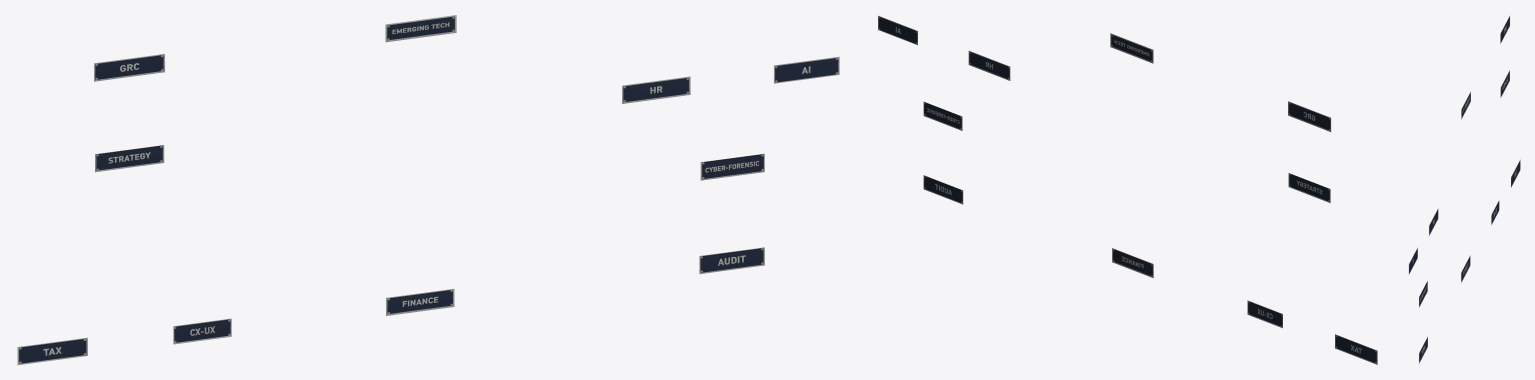
File: Lib_Text_01.glb
The picture shows the model from 3 angles, left to right: view 1: azimuth 30°, elevation 25°; view 2: azimuth 150°, elevation 25°; view 3: azimuth 270°, elevation 25°; orthographic projection. The views are drawn at different scales.
Visible parts, largest first — view 1: pPlane17; view 2: pPlane17; view 3: pPlane17.
Boxes of the visible parts, x1,y1,x2,y2 form: pPlane17: (17, 15, 839, 365); pPlane17: (878, 15, 1377, 364); pPlane17: (1409, 15, 1520, 363).
Bounding box in the file's own units: 4.38 × 1.66 × 0.9675.
Materials: 1 (1 with a texture image).
